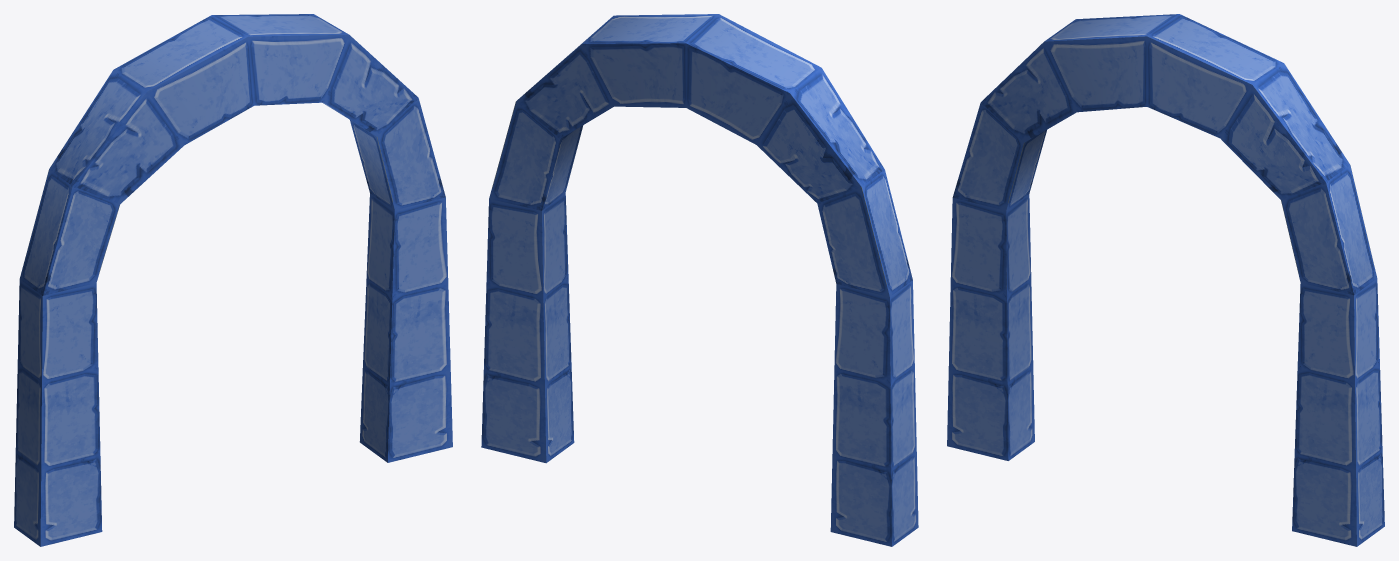
The model's file is Toon_Arch_01.fbx.
3 views of the same model, side by side, from view 1: azimuth 30°, elevation 25°; view 2: azimuth 150°, elevation 25°; view 3: azimuth 330°, elevation 25° (orthographic).
Parts seen in each view (by area): view 1: Toon_Arch_01; view 2: Toon_Arch_01; view 3: Toon_Arch_01.
Boxes of the visible parts, left/top/right/bottom form: Toon_Arch_01: left=14, top=14, right=452, bottom=546; Toon_Arch_01: left=481, top=14, right=918, bottom=546; Toon_Arch_01: left=947, top=14, right=1384, bottom=546.
Bounding box in the file's own units: 10.26 × 11.03 × 1.69.
